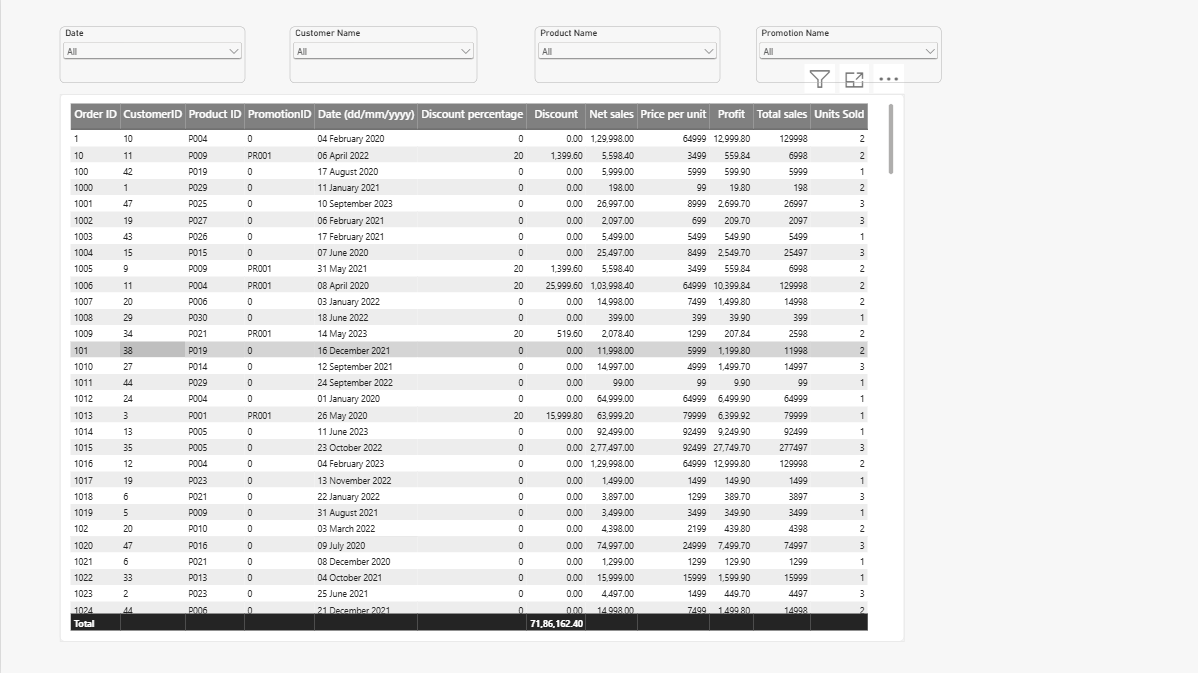

The dashboard page shown, as its layout file describes it:
{"tool":"powerbi","page":{"name":"Table visual","canvas":[1920,1080],"ordinal":4},"visuals":[{"type":"tableEx","fields":{"Values":["Fact table.Order ID","Fact table.CustomerID","Fact table.Product ID","Fact table.PromotionID","Fact table.Date (dd/mm/yyyy)","Fact table.Discount percentage","Sum(Fact table.Discount value)","Fact table.Net sales","Fact table.Price per unit","Fact table.Profit","Fact table.Total sales ","Fact table.Units Sold"]},"box":[94.3,152.9,1351.4,875.7],"z":0},{"type":"slicer","fields":{"Values":["Date Table 1.Date"]},"box":[94.3,44.3,297.1,90],"z":1000},{"type":"slicer","fields":{"Values":["Dim Customers.Customer Name"]},"box":[461.4,44.3,300,90],"z":2000},{"type":"slicer","fields":{"Values":["Dim Product.Product Name"]},"box":[854.3,44.3,297.1,90],"z":3000},{"type":"slicer","fields":{"Values":["Dim Promotion.Promotion Name"]},"box":[1208.6,44.3,297.1,90],"z":4000}]}

Visuals, with their boxes on the page's 1920x1080 design canvas (x1, y1, x2, y2). These are canvas units, not pixel positions in the 1198x673 screenshot, which may show the page scaled, cropped or inside an application window:
tableEx - Fact table.Order ID x Fact table.CustomerID: bbox(94, 153, 1446, 1029)
slicer - Date Table 1.Date: bbox(94, 44, 391, 134)
slicer - Dim Customers.Customer Name: bbox(461, 44, 761, 134)
slicer - Dim Product.Product Name: bbox(854, 44, 1151, 134)
slicer - Dim Promotion.Promotion Name: bbox(1209, 44, 1506, 134)
